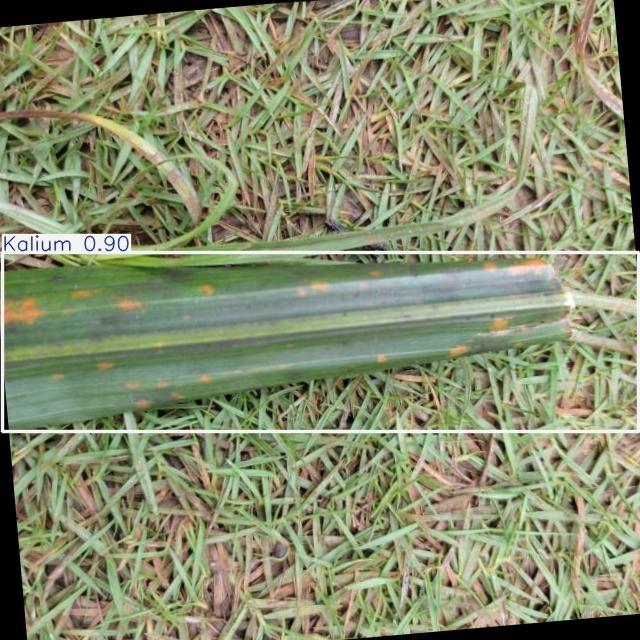Kalium: (2, 253, 639, 431)
